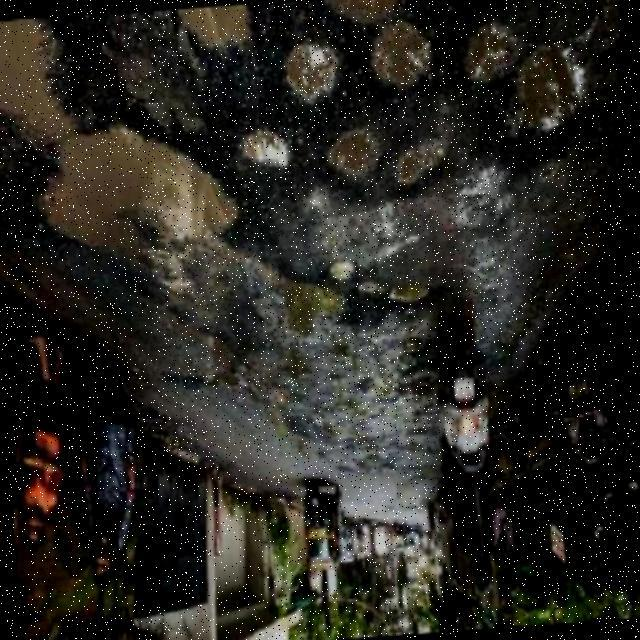Pothole: (0, 20, 237, 246), (517, 45, 583, 131), (462, 17, 522, 83), (371, 20, 431, 86), (285, 37, 335, 103), (175, 6, 248, 46), (328, 129, 383, 180), (398, 138, 445, 185), (320, 0, 398, 28), (245, 128, 291, 168), (389, 282, 431, 303), (329, 258, 357, 280)
